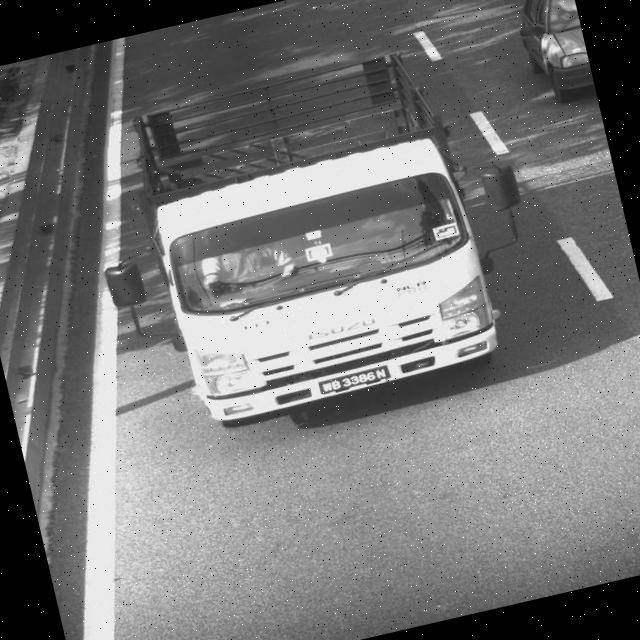License_Plate: (311, 358, 404, 403)
car: (60, 12, 580, 462)
